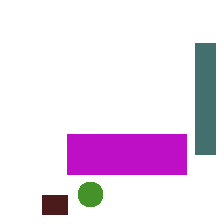circle: (78, 182, 102, 206)
rectangle: (67, 134, 186, 174), (195, 43, 215, 154), (42, 195, 67, 214)
